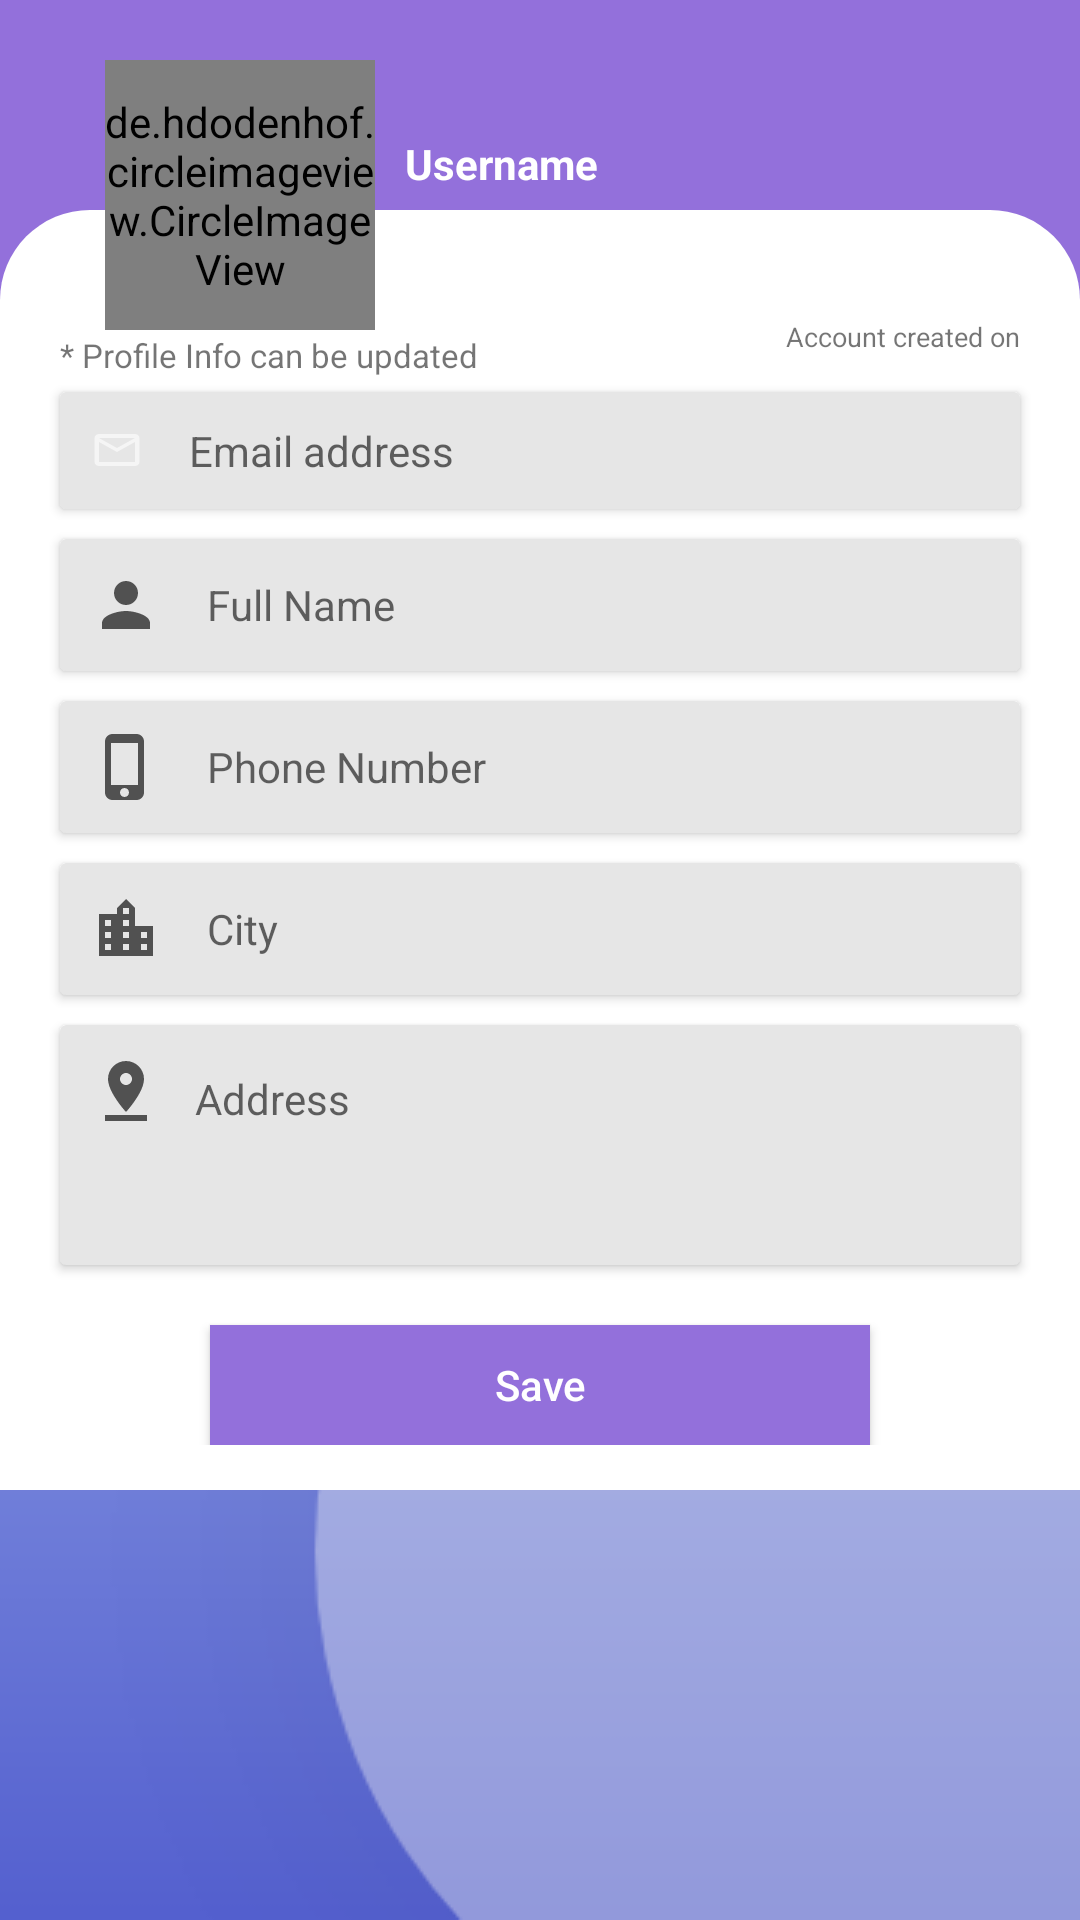

Point at icon controls on the screen. Image size 1080 × 1920, points as point (x, y).
loc: point (126, 1091)
